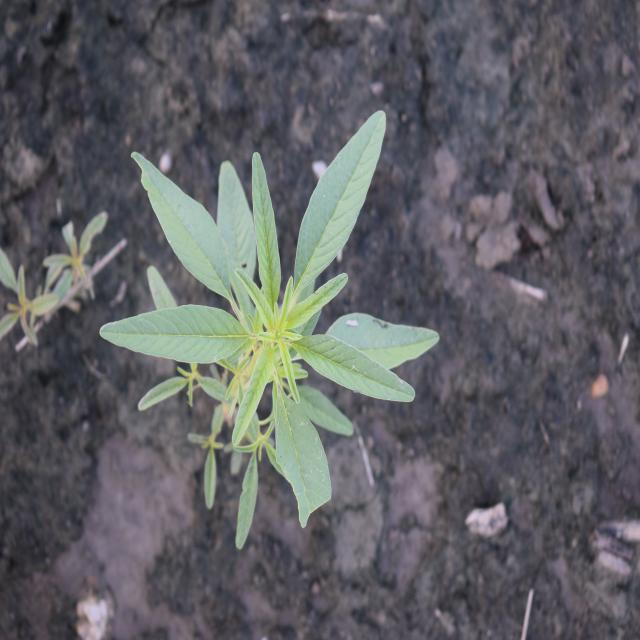Waterhemp: (95, 107, 441, 554), (1, 207, 110, 349)
